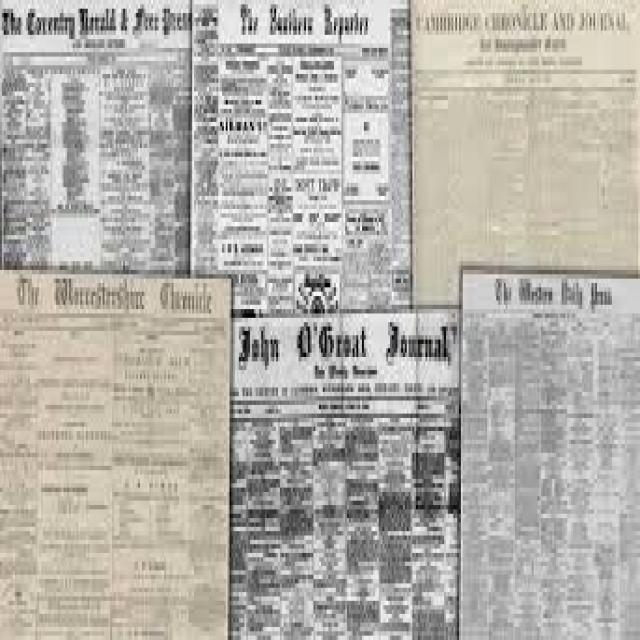paper: (2, 274, 257, 640), (235, 318, 465, 640), (198, 0, 406, 334), (459, 261, 640, 640), (419, 5, 638, 296), (0, 0, 187, 261)
